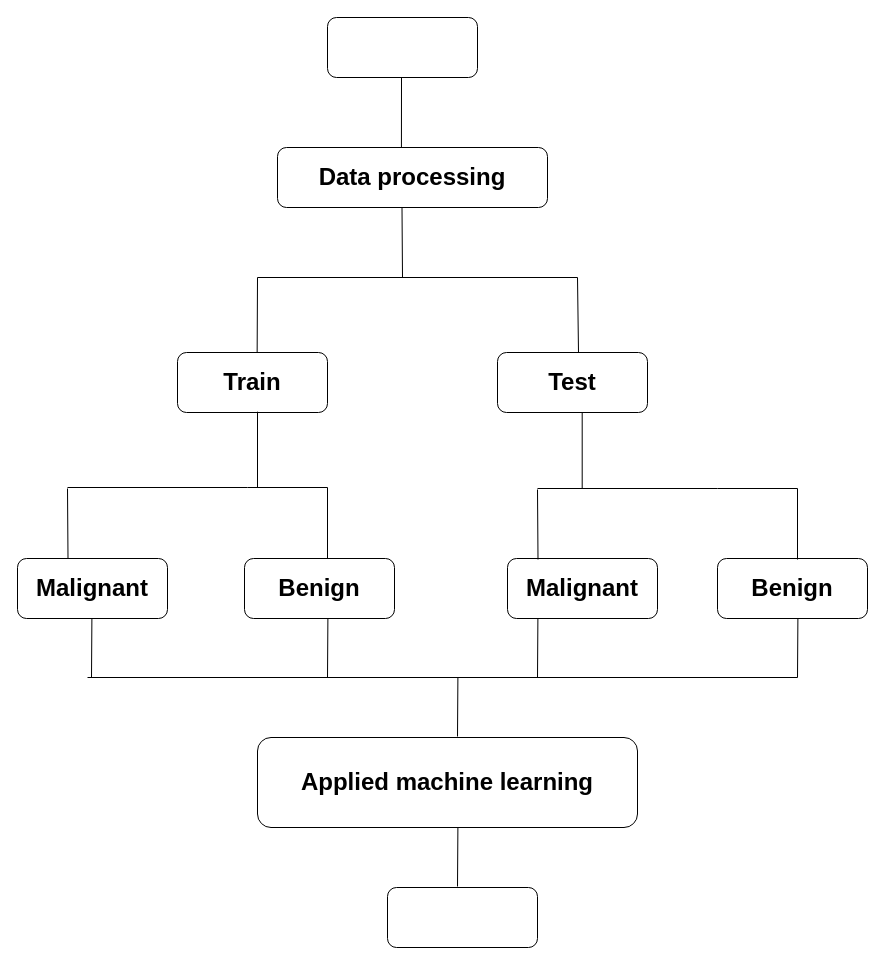
Some shapes in this 885 by 965 pixel diagram are drawn without their labels. The shapes that lost their labels are listed below. From the top down, each one's centre as x and y in pixels, then its label:
At point 402,47: "Dataset".
At point 462,917: "Diagnos".
